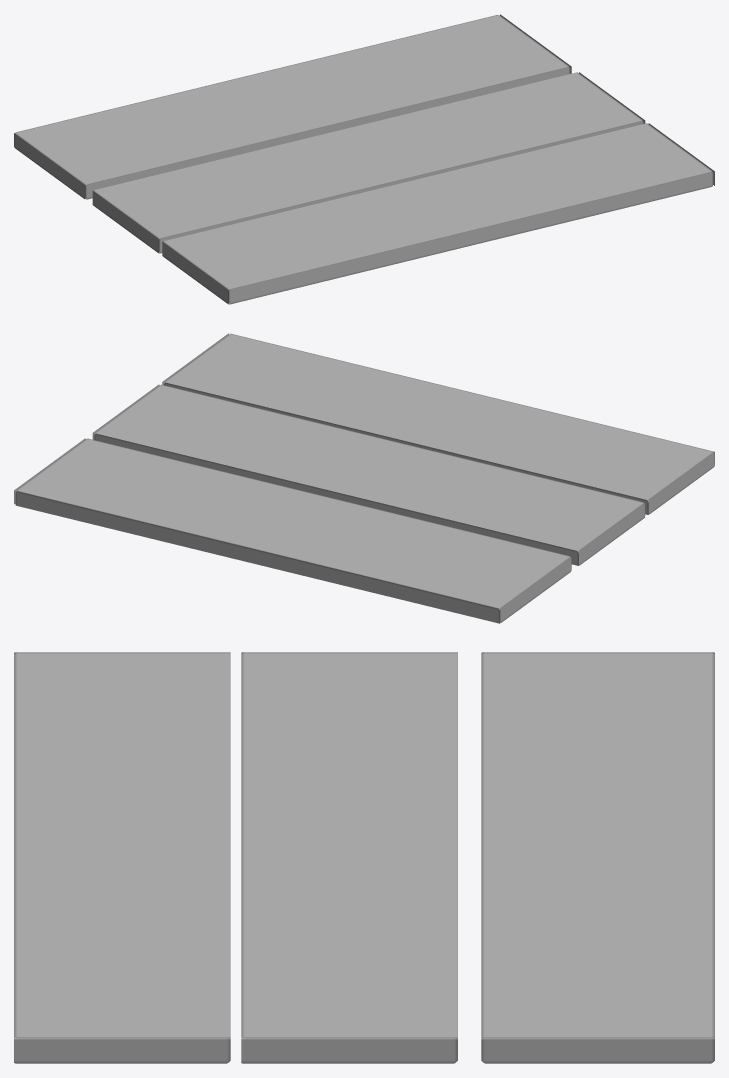
File: pz_barricade_3.obj
3 views of the same model, one above another, from view 1: azimuth 30°, elevation 25°; view 2: azimuth 150°, elevation 25°; view 3: azimuth 270°, elevation 25° (orthographic). The views are drawn at different scales.
Bounding box in the file's own units: 1 × 0.029 × 0.7655.
Materials: 1 (1 with a texture image).
